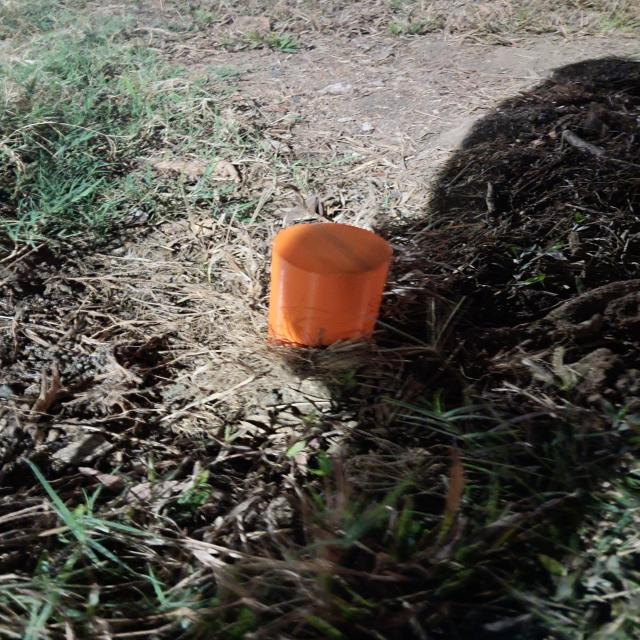Cylinder: (266, 222, 392, 352)
